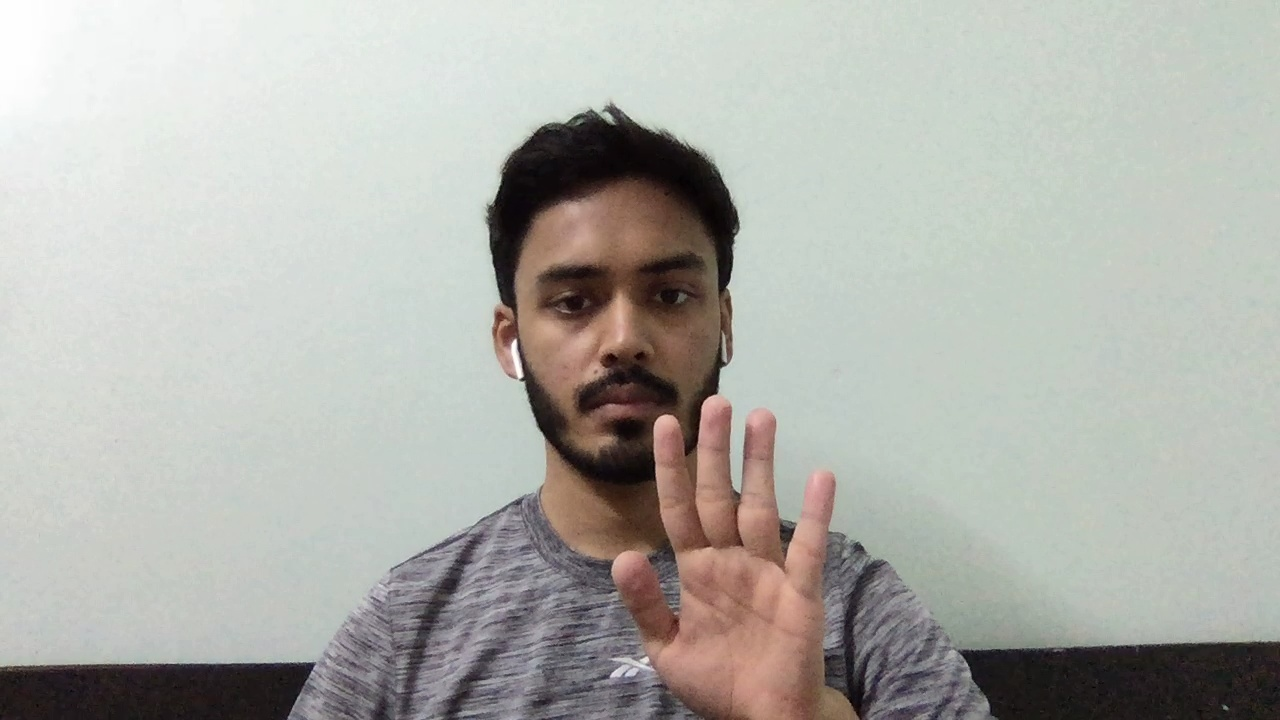Hello: (601, 389, 871, 717)
